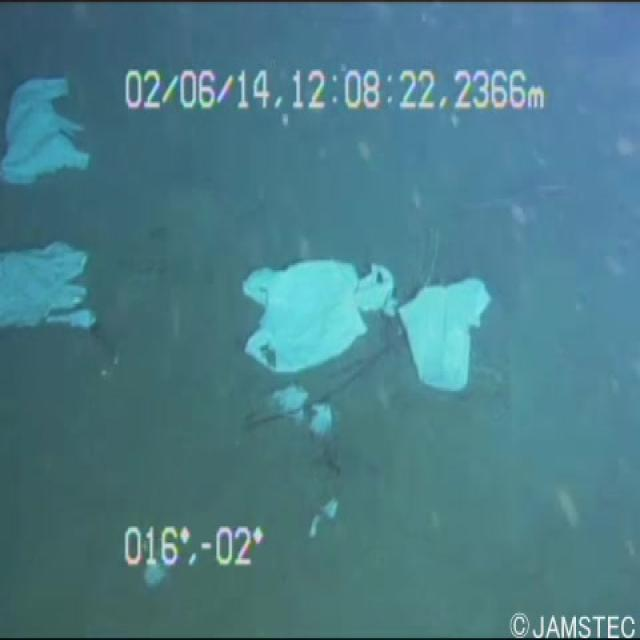plastic: (220, 233, 404, 366), (0, 208, 109, 343), (384, 262, 500, 382), (0, 59, 93, 201)
